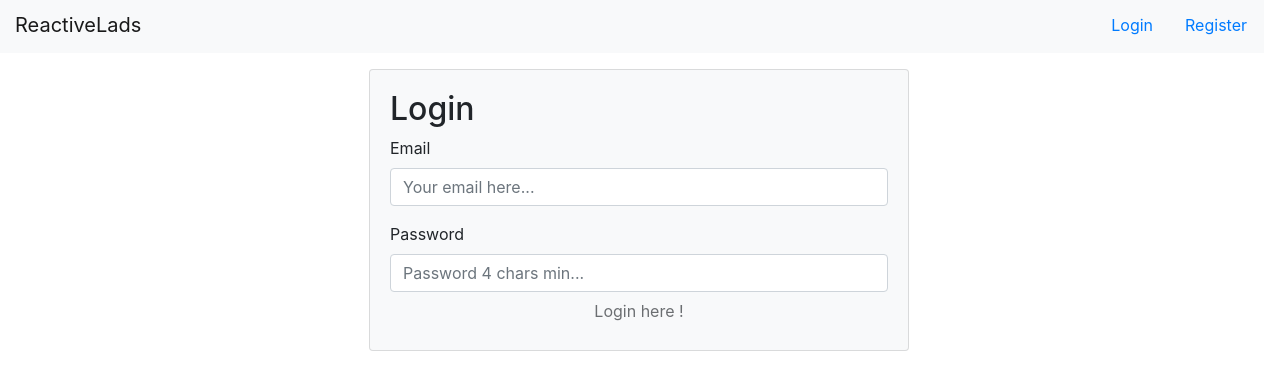
<LoginForm/> e2e › Button validation › should be enabled on valid input
Type "i@am.valid" into the field named "email" at (639, 187), box [390,168,888,206]
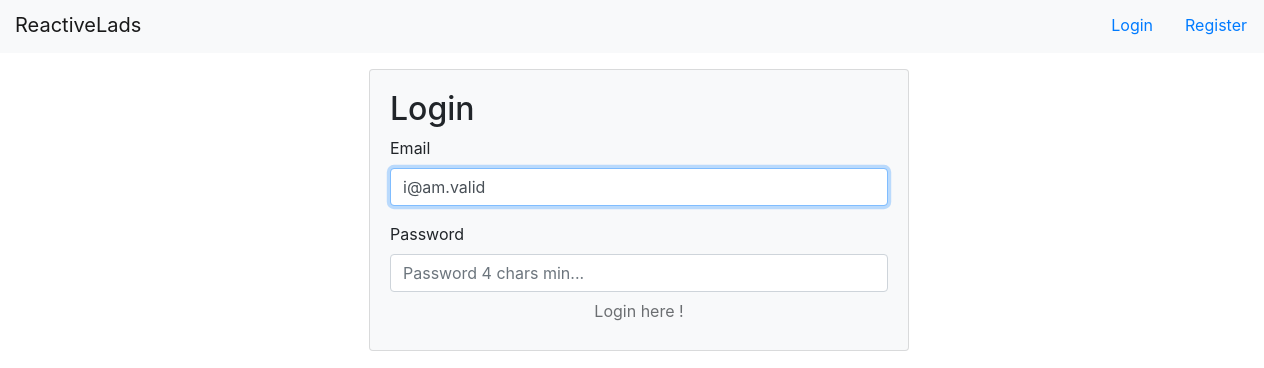
Type "superValidPass" into the password field named "password" at (639, 273), box [390,254,888,292]
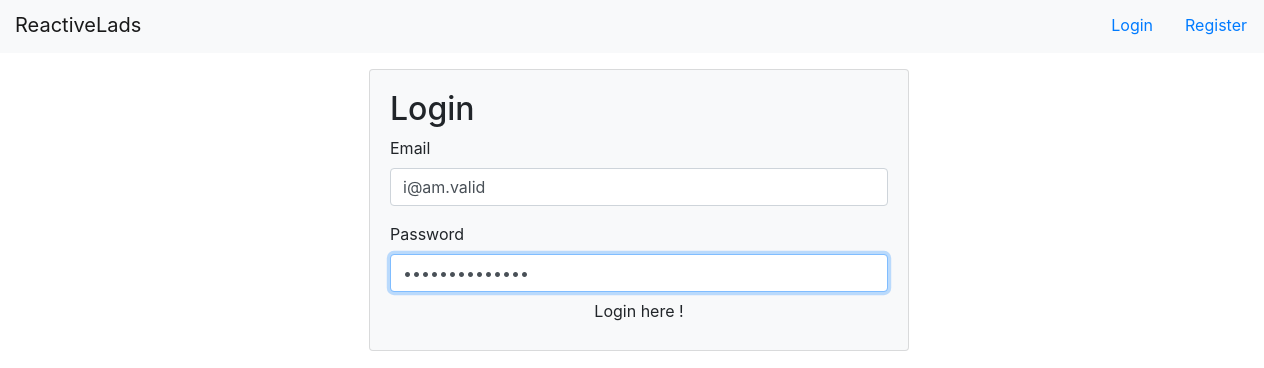
Check: the button "Login here !" is enabled, box [405,292,873,330]
